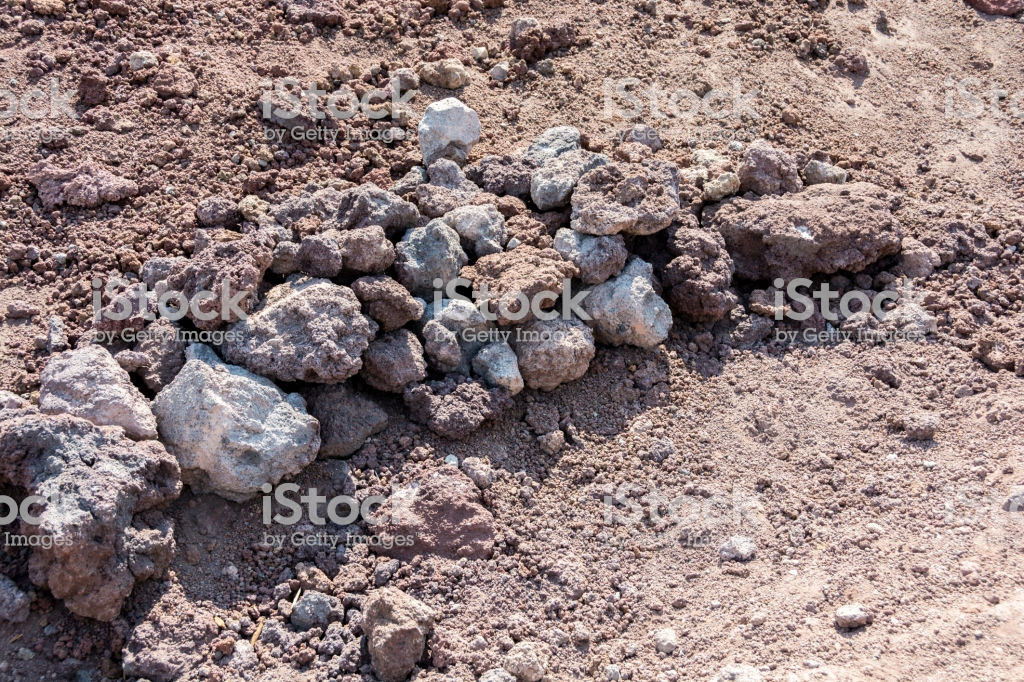volcanic_rock: (1, 426, 195, 610), (152, 352, 316, 505), (718, 186, 923, 281), (218, 289, 379, 386), (21, 347, 163, 436), (660, 218, 745, 336), (568, 273, 692, 352), (563, 163, 687, 236), (387, 378, 500, 439), (263, 228, 402, 276)
